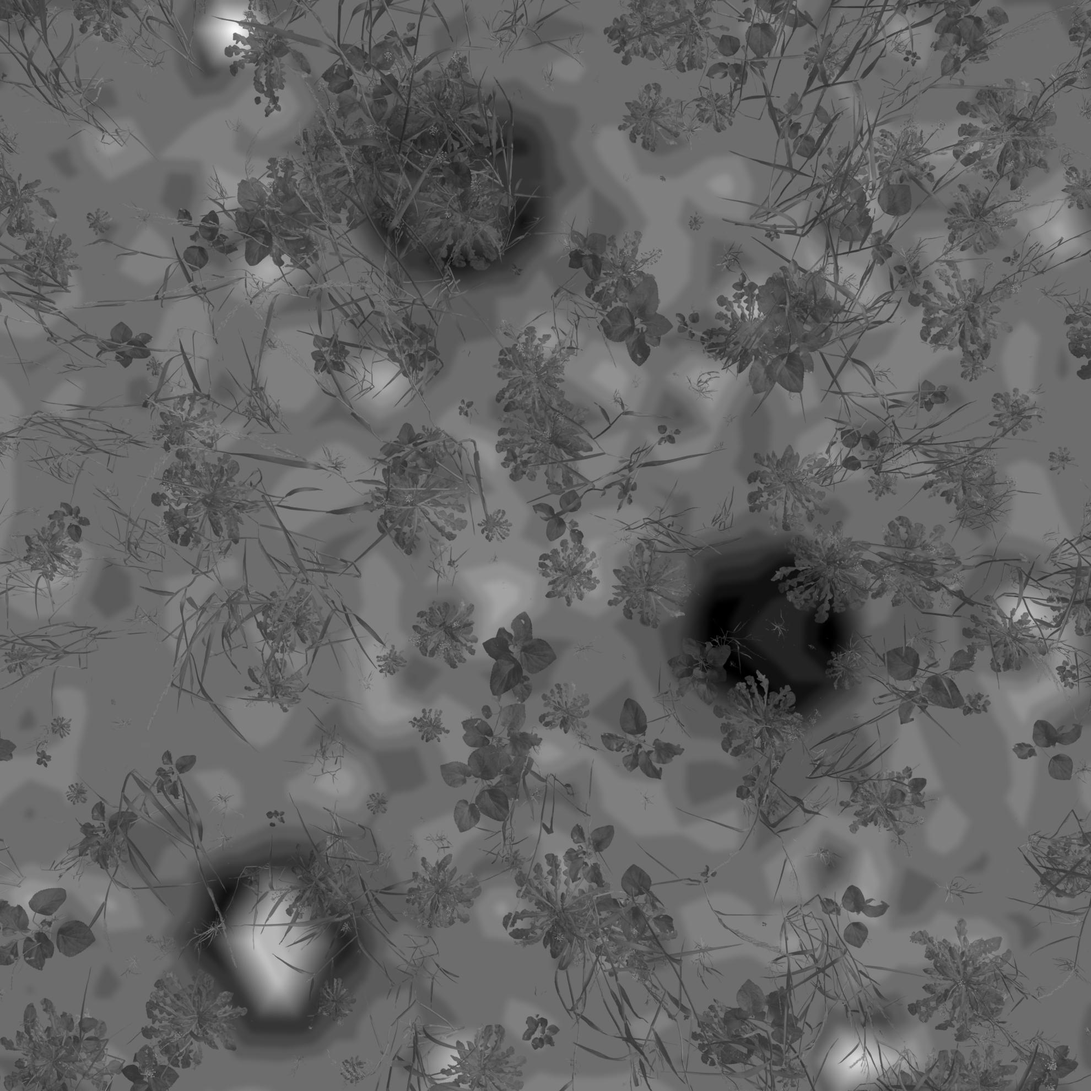landmine: (687, 549, 848, 710), (199, 856, 356, 1020)
